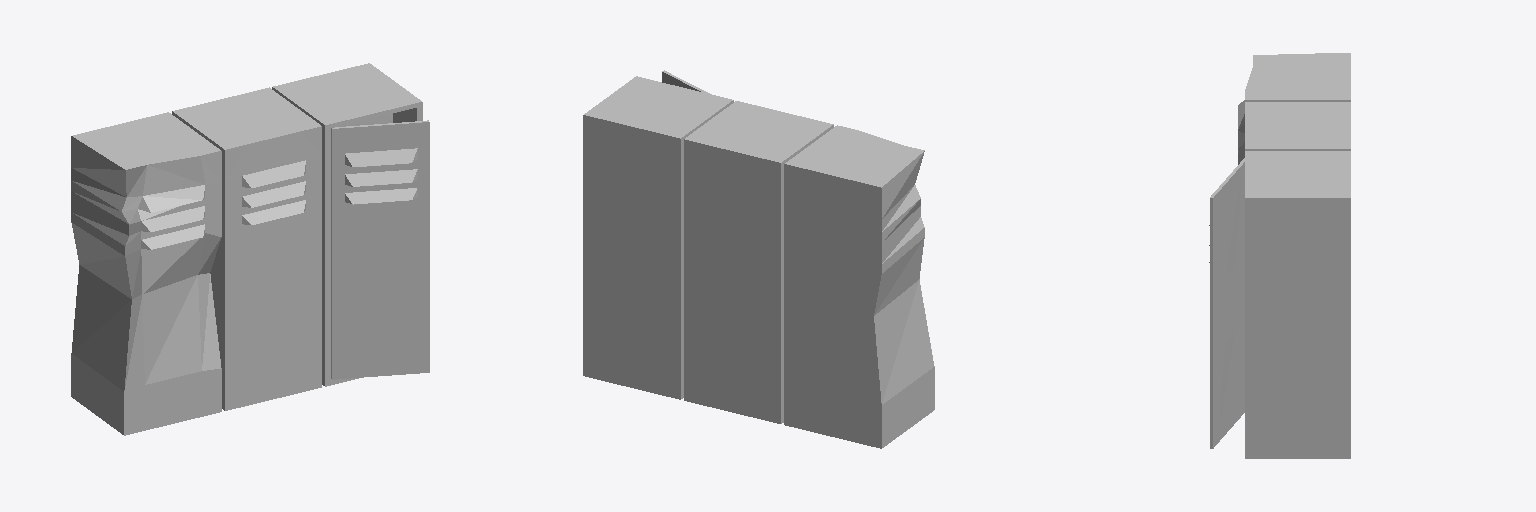
The model's file is 3_Spint.obj.
3 renders of one model, left to right at view 1: azimuth 30°, elevation 25°; view 2: azimuth 150°, elevation 25°; view 3: azimuth 270°, elevation 25°, orthographic.
Parts seen in each view (by area): view 1: pCube5; view 2: pCube5; view 3: pCube5.
Part boxes in pixels (bbox=[...]): pCube5: bbox=[71, 63, 429, 435]; pCube5: bbox=[583, 70, 934, 448]; pCube5: bbox=[1209, 53, 1350, 458].
Size of the model in its own units: 14.65 by 12.27 by 6.02.